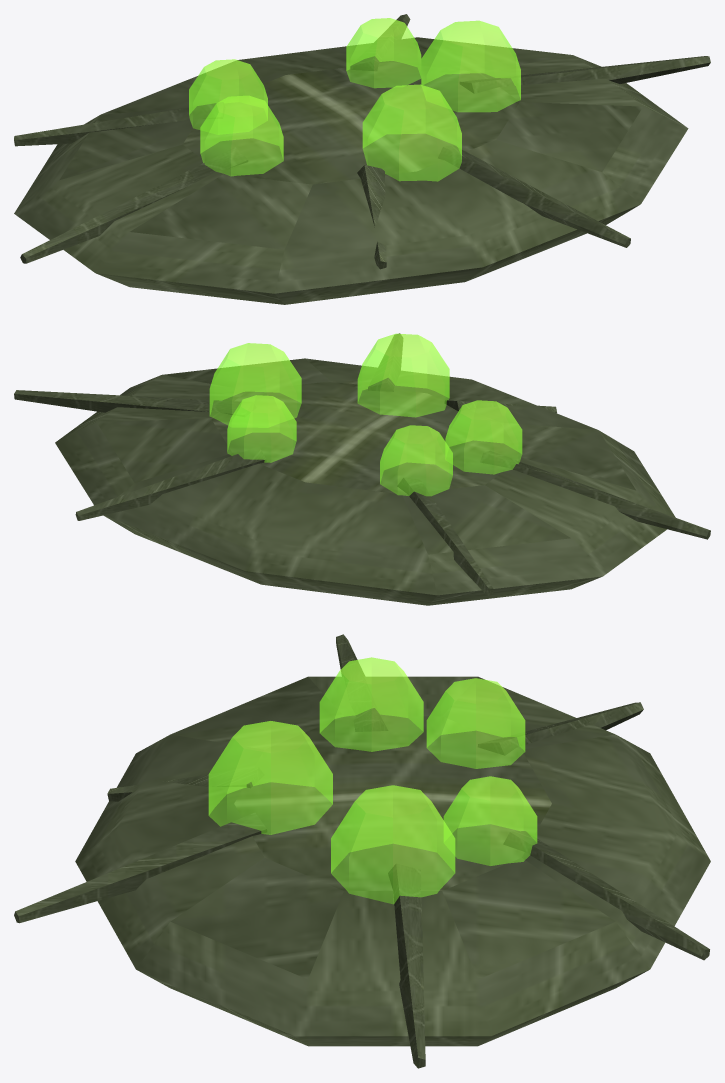
File: fenlight_spill.glb
The picture shows the model from 3 angles, top to bottom: view 1: azimuth 30°, elevation 25°; view 2: azimuth 150°, elevation 25°; view 3: azimuth 270°, elevation 25°; orthographic projection. The views are drawn at different scales.
Visible parts, largest first — view 1: FenlightSpill; view 2: FenlightSpill; view 3: FenlightSpill.
Boxes of the visible parts, x1,y1,x2,y2 form: FenlightSpill: (14, 14, 710, 304); FenlightSpill: (14, 333, 710, 605); FenlightSpill: (14, 634, 710, 1068).
Size of the model in its own units: 1.8 by 0.4187 by 1.25.
Materials: 2 (1 with a texture image).
